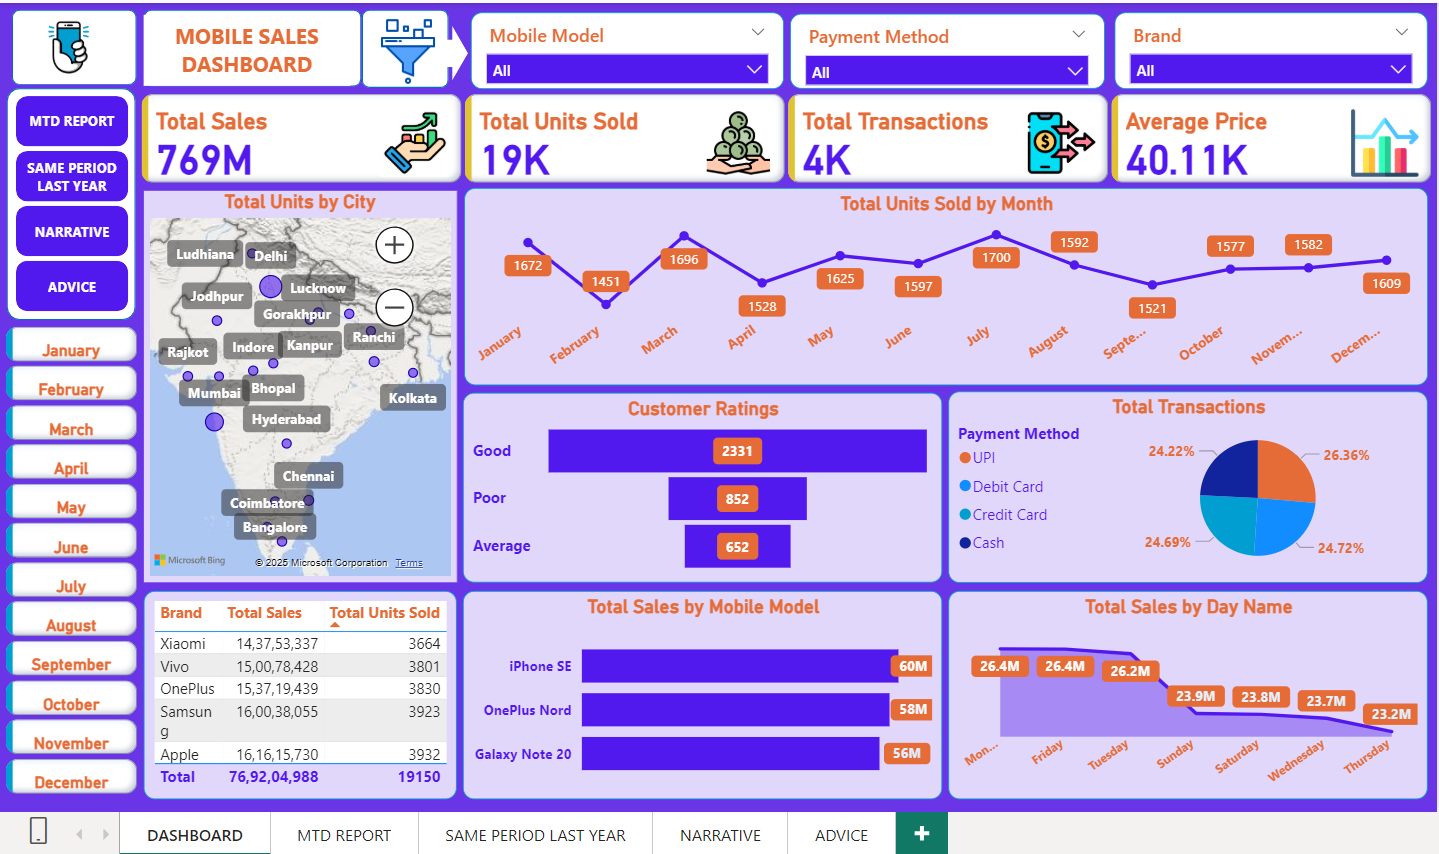

What the dashboard file says about the page in this screenshot:
{"tool":"powerbi","page":{"name":"DASHBOARD","canvas":[1280,720],"ordinal":0},"visuals":[{"type":"shape","box":[10.3,6.5,111,67.1],"z":0},{"type":"image","box":[6.5,3.9,111,71],"z":1000},{"type":"shape","box":[6.5,76.2,114.9,206.6],"z":2000},{"type":"advancedSlicerVisual","fields":{"Values":["Custom_Calender.Date.Variation.Date Hierarchy.Month"]},"box":[0,282.7,127.8,437.6],"z":4000},{"type":"cardVisual","fields":{"Data":["Sales_Data.Total_Sales","Sales_Data.total units sold","Sales_Data.Total_Transactions","Sales_Data.Average_Price"]},"box":[121.4,76.2,1159.3,89.1],"z":5000},{"type":"slicer","fields":{"Values":["Sales_Data.Mobile Model"]},"box":[419.6,7.7,278.8,68.4],"z":6000},{"type":"slicer","fields":{"Values":["Sales_Data.Payment Method"]},"box":[703.6,9,280.1,67.1],"z":7000},{"type":"slicer","fields":{"Values":["Sales_Data.Brand"]},"box":[992.8,7.7,278.9,68.4],"z":8000},{"type":"shape","box":[322.7,6.5,77.5,69.7],"z":9000},{"type":"image","box":[326.6,7.7,73.6,69.7],"z":10000},{"type":"shape","box":[388.6,20.7,28.4,49],"z":11000},{"type":"shape","box":[128.1,6.3,194,68.5],"z":12000},{"type":"textbox","box":[128.1,10.1,183.9,63.4],"z":13000},{"type":"map","title":"Total Units by City","fields":{"Category":["Sales_Data.City"],"Size":["Sales_Data.Total_Sales"]},"box":[127.8,166.5,278.9,348.6],"z":14000},{"type":"lineChart","title":"Total Units Sold by Month","fields":{"Category":["Custom_Calender.Date.Variation.Date Hierarchy.Month"],"Y":["Sales_Data.total units sold"]},"box":[413.1,165.2,858.5,175.6],"z":15000},{"type":"funnel","title":"Customer Ratings","fields":{"Y":["CountNonNull(Sales_Data.Customer Ratings)"],"Category":["Sales_Data.Rating_Status"]},"box":[411.8,347,427.3,169.1],"z":16000},{"type":"pieChart","title":"Total Transactions ","fields":{"Category":["Sales_Data.Payment Method"],"Y":["Sales_Data.Total_Transactions"]},"box":[844.3,345.7,427.3,170.4],"z":17000},{"type":"clusteredBarChart","title":"Total Sales by Mobile Model","fields":{"Y":["Sales_Data.Total_Sales"],"Category":["Sales_Data.Mobile Model"]},"box":[411.8,524.1,427.3,185.9],"z":18000},{"type":"areaChart","title":"Total Sales by Day Name","fields":{"Y":["Sales_Data.Total_Sales"],"Category":["Custom_Calender.Day Name"]},"box":[844.3,524.1,427.3,185.9],"z":19000},{"type":"tableEx","fields":{"Values":["Sales_Data.Brand","Sales_Data.Total_Sales","Sales_Data.total units sold"]},"box":[127.8,524.1,278.9,185.9],"z":20000},{"type":"pageNavigator","box":[14.2,82.6,100.7,192.3],"z":21000}]}

Visuals, with their boxes in screenshot pixels (x1, y1, x2, y2):
shape: <bbox>11, 7, 134, 82</bbox>
image: <bbox>7, 4, 130, 83</bbox>
shape: <bbox>7, 84, 135, 314</bbox>
advancedSlicerVisual - Custom_Calender.Date.Variation.Date Hierarchy.Month: <bbox>0, 313, 142, 799</bbox>
cardVisual - Sales_Data.Total_Sales x Sales_Data.total units sold: <bbox>135, 84, 1420, 183</bbox>
slicer - Sales_Data.Mobile Model: <bbox>465, 9, 774, 84</bbox>
slicer - Sales_Data.Payment Method: <bbox>780, 10, 1091, 84</bbox>
slicer - Sales_Data.Brand: <bbox>1101, 9, 1410, 84</bbox>
shape: <bbox>358, 7, 444, 84</bbox>
image: <bbox>362, 9, 444, 86</bbox>
shape: <bbox>431, 23, 462, 77</bbox>
shape: <bbox>142, 7, 357, 83</bbox>
textbox: <bbox>142, 11, 346, 81</bbox>
"Total Units by City" map: <bbox>142, 185, 451, 571</bbox>
"Total Units Sold by Month" lineChart: <bbox>458, 183, 1410, 378</bbox>
"Customer Ratings" funnel: <bbox>457, 385, 930, 572</bbox>
"Total Transactions " pieChart: <bbox>936, 383, 1410, 572</bbox>
"Total Sales by Mobile Model" clusteredBarChart: <bbox>457, 581, 930, 787</bbox>
"Total Sales by Day Name" areaChart: <bbox>936, 581, 1410, 787</bbox>
tableEx - Sales_Data.Brand x Sales_Data.Total_Sales: <bbox>142, 581, 451, 787</bbox>
pageNavigator: <bbox>16, 92, 127, 305</bbox>
